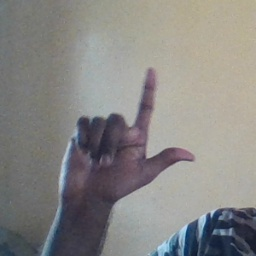L: (58, 66, 198, 197)
